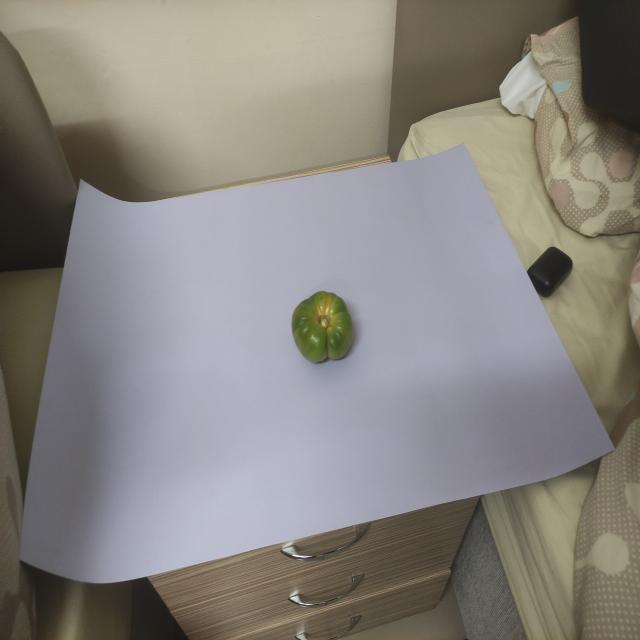yesil: (281, 282, 365, 367)
